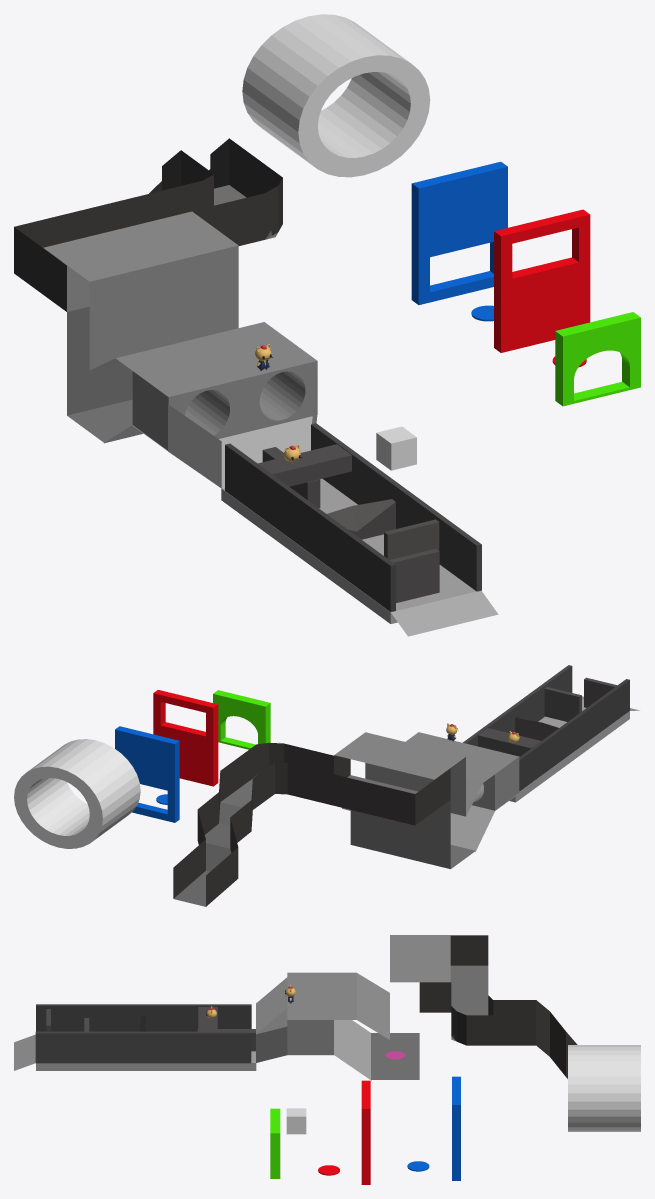
Rendered from Maze.glb.
3 views of the same model, one above another, from view 1: azimuth 30°, elevation 25°; view 2: azimuth 150°, elevation 25°; view 3: azimuth 270°, elevation 25° (orthographic). The views are drawn at different scales.
Parts seen in each view (by area): view 1: Cube.002, Cylinder.002, Plane.008, Plane.001, Cube_005-mesh, Cube_001-mesh, Plane.002, Plane.003, Cube_003-mesh, Cube, Plane.004, Plane.006 (+2 smaller); view 2: Plane.008, Cylinder.002, Cube.002, Plane.002, Cube_005-mesh, Cube_001-mesh, Plane.001, Cube_003-mesh, Plane.003, Plane.005, Cube, Plane.006 (+1 smaller); view 3: Plane.008, Cube.002, Plane.003, Plane.001, Cylinder.002, Plane.002, Cube_005-mesh, Cube_001-mesh, Cube_003-mesh, Cube.003, Cube.
Boxes of the visible parts, x1=… form: Cube.002: x1=43, y1=211, x2=317, y2=450; Cylinder.002: x1=242, y1=14, x2=430, y2=177; Plane.008: x1=14, y1=138, x2=282, y2=442; Plane.001: x1=104, y1=373, x2=498, y2=636; Cube_005-mesh: x1=494, y1=209, x2=590, y2=352; Cube_001-mesh: x1=411, y1=161, x2=507, y2=304; Plane.002: x1=225, y1=443, x2=395, y2=611; Plane.003: x1=311, y1=423, x2=481, y2=591; Cube_003-mesh: x1=555, y1=312, x2=640, y2=406; Cube: x1=258, y1=444, x2=351, y2=486; Plane.004: x1=390, y1=549, x2=439, y2=602; Plane.006: x1=327, y1=499, x2=395, y2=539; Plane.008: x1=173, y1=742, x2=475, y2=906; Cylinder.002: x1=14, y1=739, x2=140, y2=848; Cube.002: x1=334, y1=732, x2=519, y2=816; Plane.002: x1=519, y1=679, x2=629, y2=791; Cube_005-mesh: x1=153, y1=690, x2=218, y2=786; Cube_001-mesh: x1=115, y1=726, x2=179, y2=822; Plane.001: x1=450, y1=696, x2=639, y2=851; Cube_003-mesh: x1=213, y1=690, x2=270, y2=749; Plane.003: x1=463, y1=665, x2=572, y2=751; Plane.005: x1=544, y1=687, x2=581, y2=721; Cube: x1=478, y1=728, x2=540, y2=756; Plane.006: x1=515, y1=716, x2=558, y2=740; Plane.008: x1=371, y1=935, x2=577, y2=1079; Cube.002: x1=287, y1=935, x2=450, y2=1054; Plane.003: x1=35, y1=1031, x2=251, y2=1063; Plane.001: x1=14, y1=977, x2=371, y2=1080; Cylinder.002: x1=568, y1=1045, x2=640, y2=1131; Plane.002: x1=36, y1=1004, x2=251, y2=1031; Cube_005-mesh: x1=361, y1=1080, x2=370, y2=1184; Cube_001-mesh: x1=452, y1=1076, x2=460, y2=1180; Cube_003-mesh: x1=270, y1=1108, x2=280, y2=1178; Cube.003: x1=286, y1=1108, x2=306, y2=1134; Cube: x1=198, y1=1007, x2=217, y2=1031.
Size of the model in its own units: 17.57 by 7.32 by 30.6.
